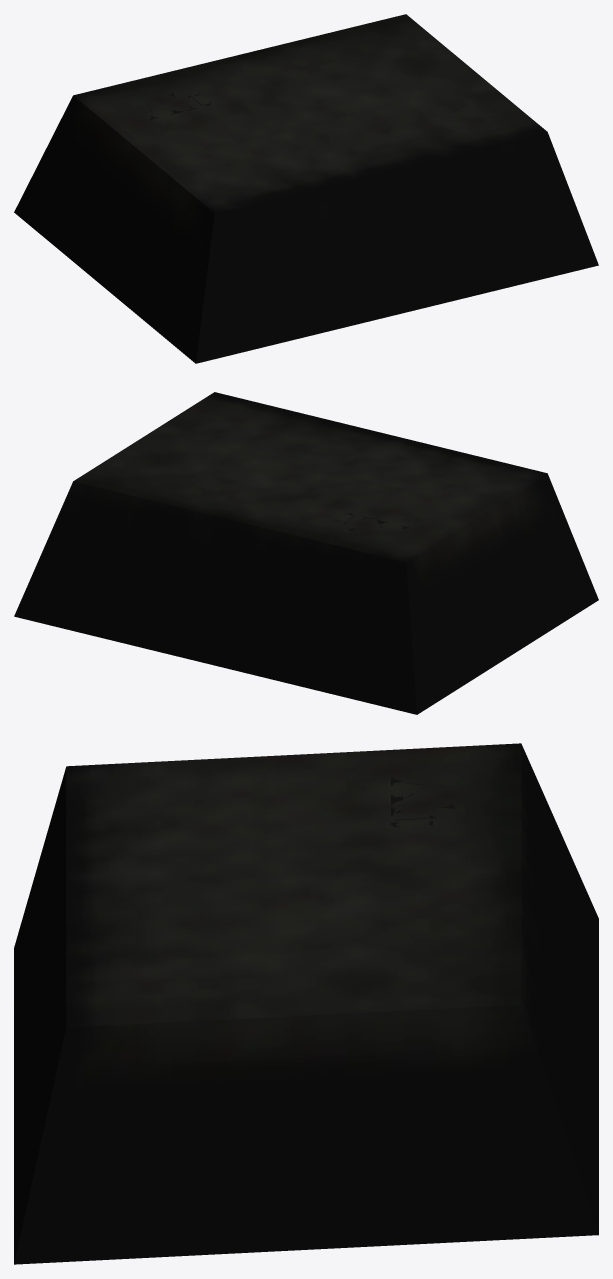
Rendered from link_81__key-87.glb.
3 renders of one model, top to bottom at view 1: azimuth 30°, elevation 25°; view 2: azimuth 150°, elevation 25°; view 3: azimuth 270°, elevation 25°, orthographic. The views are drawn at different scales.
Parts seen in each view (by area): view 1: geometry_0; view 2: geometry_0; view 3: geometry_0.
Part boxes in pixels (x1,y1,x2,y2): geometry_0: (14,14,598,363); geometry_0: (14,392,598,714); geometry_0: (14,743,598,1264).
Size of the model in its own units: 0.0919 by 0.0315 by 0.0718.
Materials: 1 (1 with a texture image).
